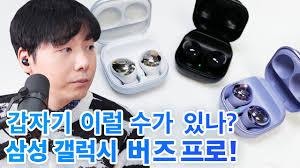earphone: (21, 56, 30, 68)
